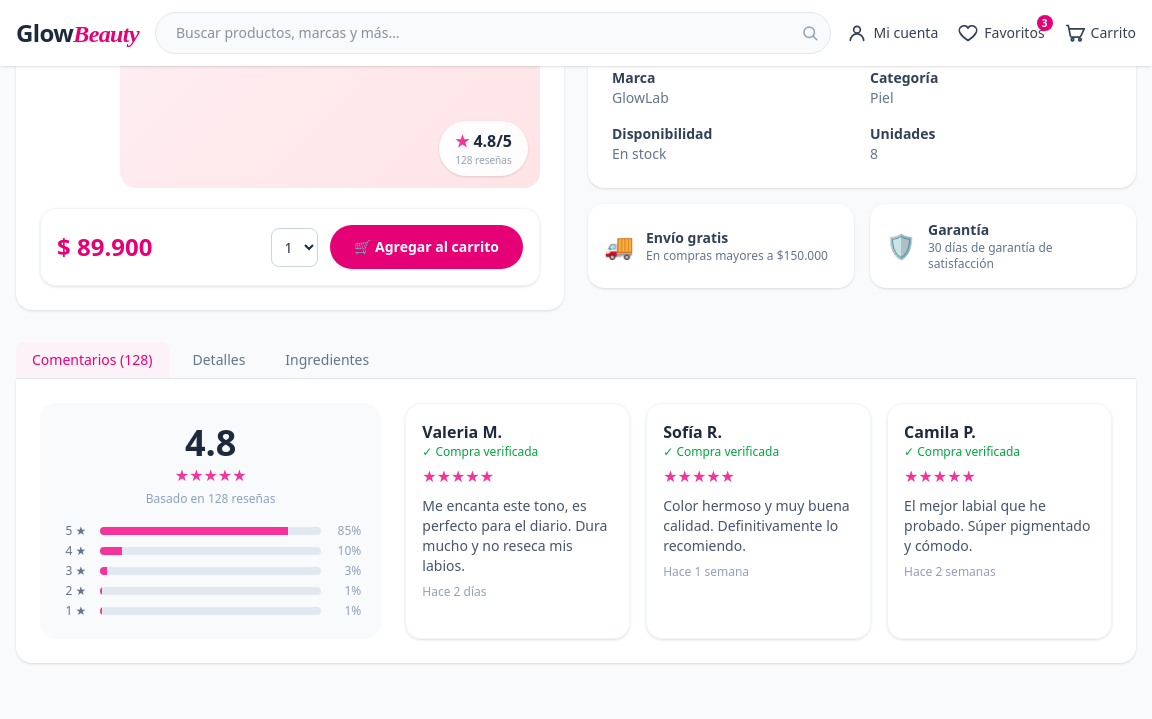
Test case: ProductDetailPage › la navegación de tabs cambia el contenido mostrado
(page scrolled)
// Act – navegar a la pestaña Ingredientes
Click the button "Ingredientes".
click(327, 360)  # box [269,342,385,378]
(page scrolled)
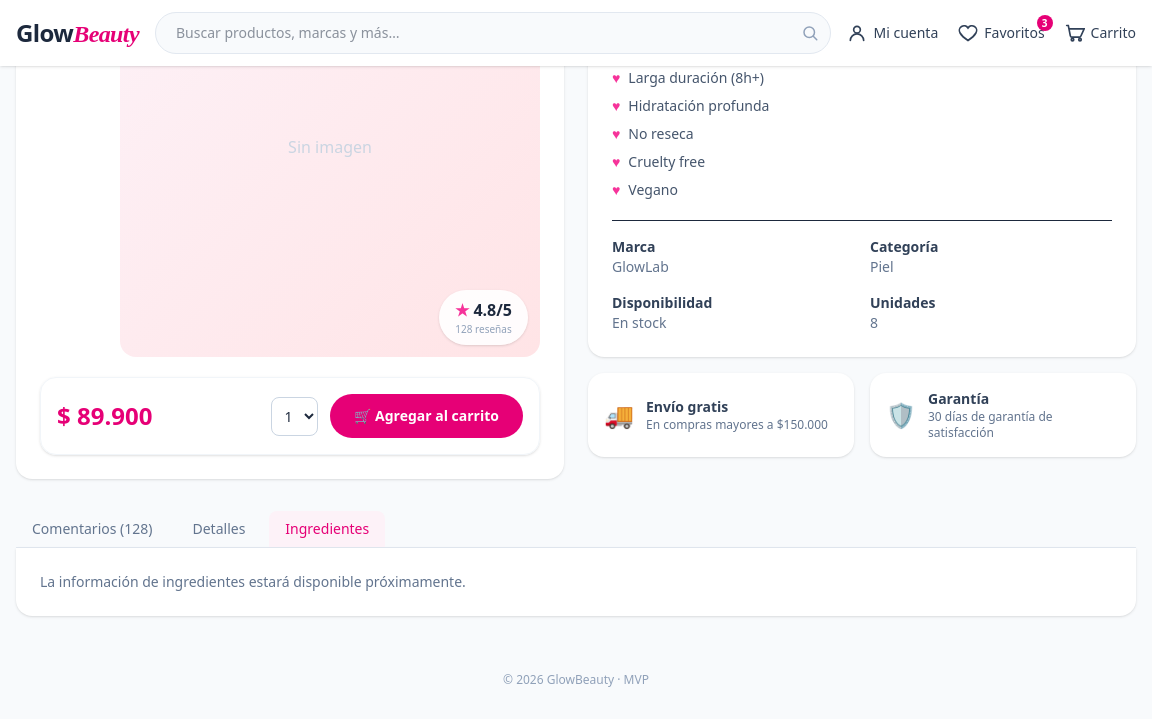
Expected: the text "La información de ingredientes estará disponible" is shown, [40,572,466,591]
